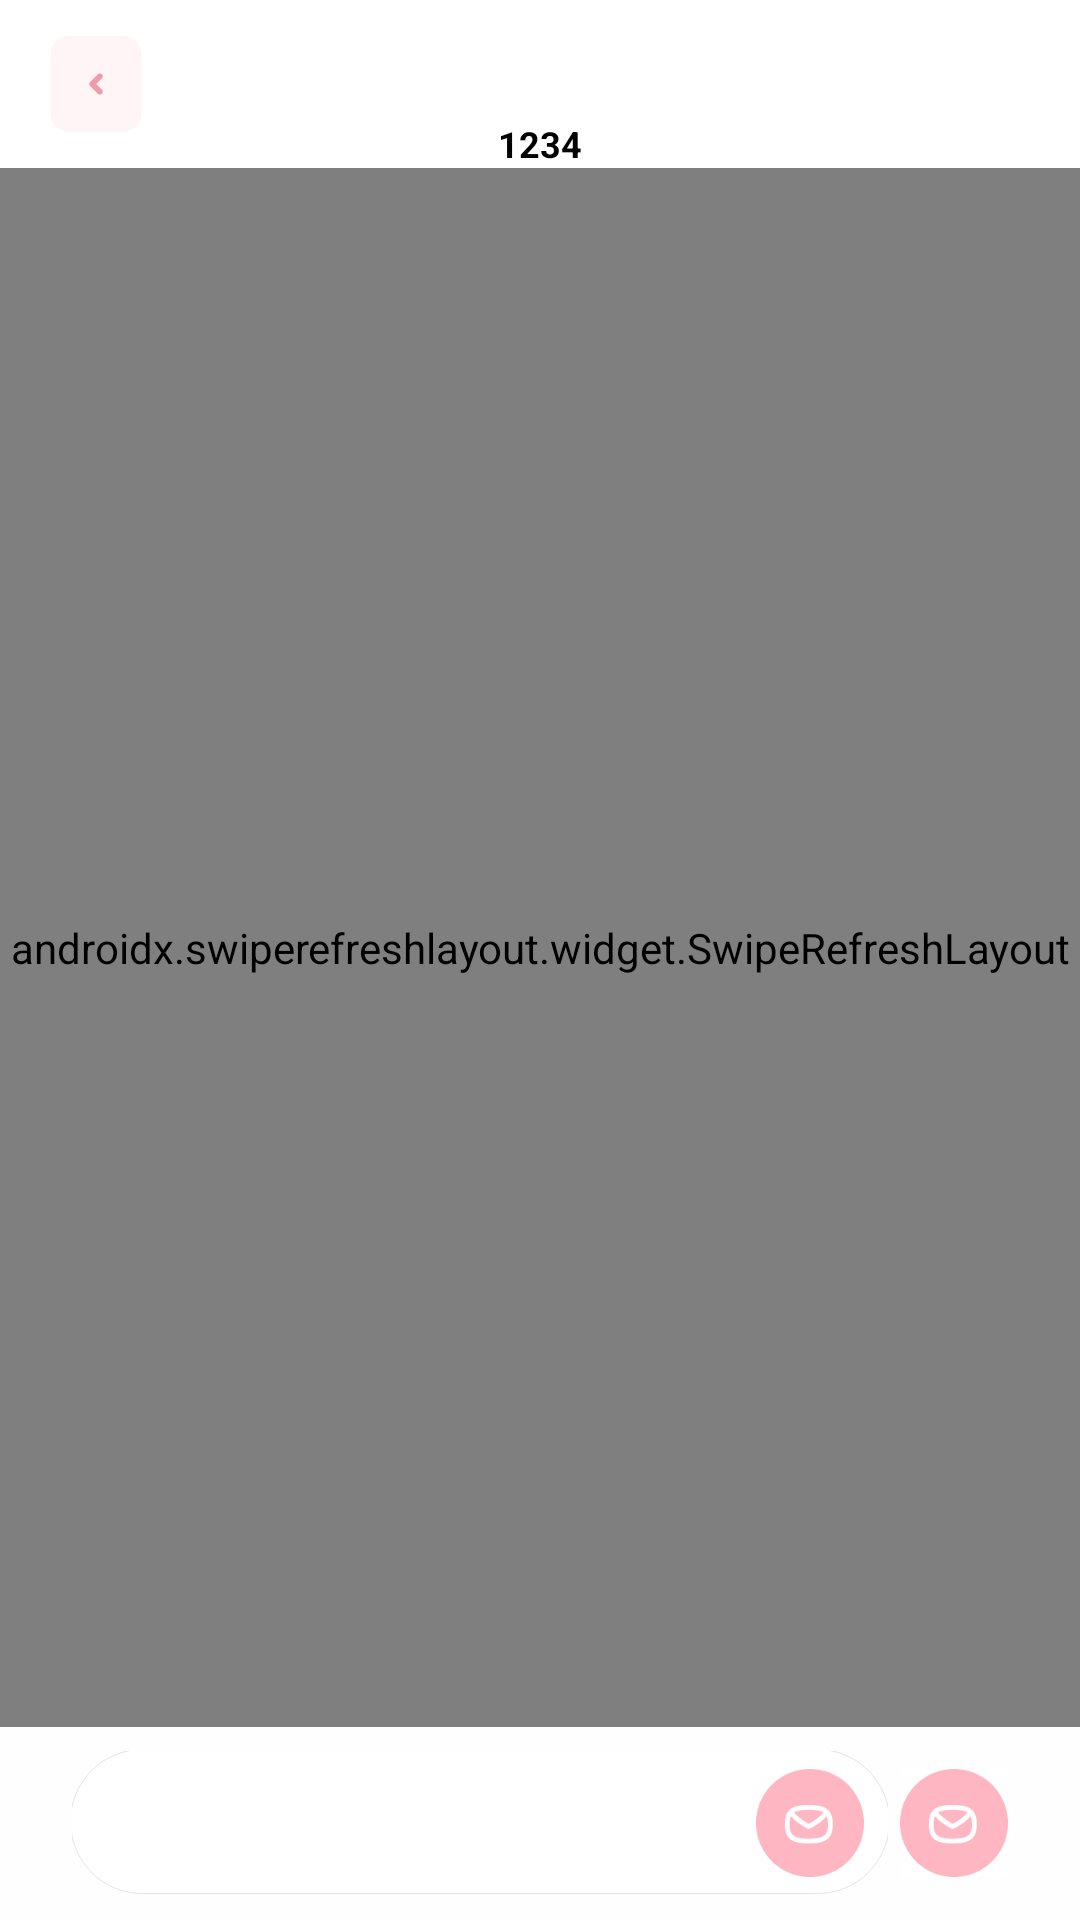

Where to tap for icons on this 1080 × 1920 app screen, as [x,y]:
chat send message: [810,1823], [954,1823]
